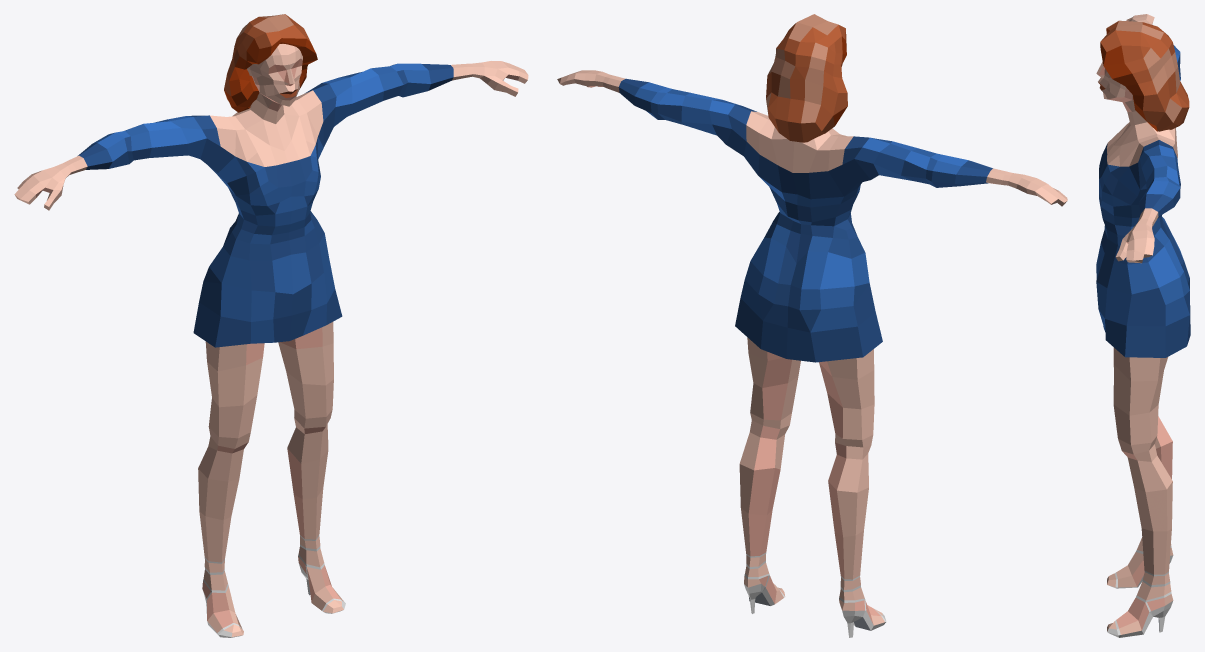
The model's file is night_Female_A-model.fbx.
The picture shows the model from 3 angles, left to right: view 1: azimuth 30°, elevation 25°; view 2: azimuth 150°, elevation 25°; view 3: azimuth 270°, elevation 25°; orthographic projection. The views are drawn at different scales.
Parts seen in each view (by area): view 1: night_Female_A, acc_hair_med; view 2: night_Female_A, acc_hair_med; view 3: night_Female_A, acc_hair_med.
Part boxes in pixels (x1,y1,x2,y2): night_Female_A: (14, 44, 528, 637); acc_hair_med: (224, 14, 317, 112); night_Female_A: (557, 70, 1067, 637); acc_hair_med: (766, 14, 847, 142); night_Female_A: (1096, 14, 1190, 637); acc_hair_med: (1100, 20, 1189, 131).
Size of the model in its own units: 153 by 171 by 25.01.
Materials: 1 (1 with a texture image).
